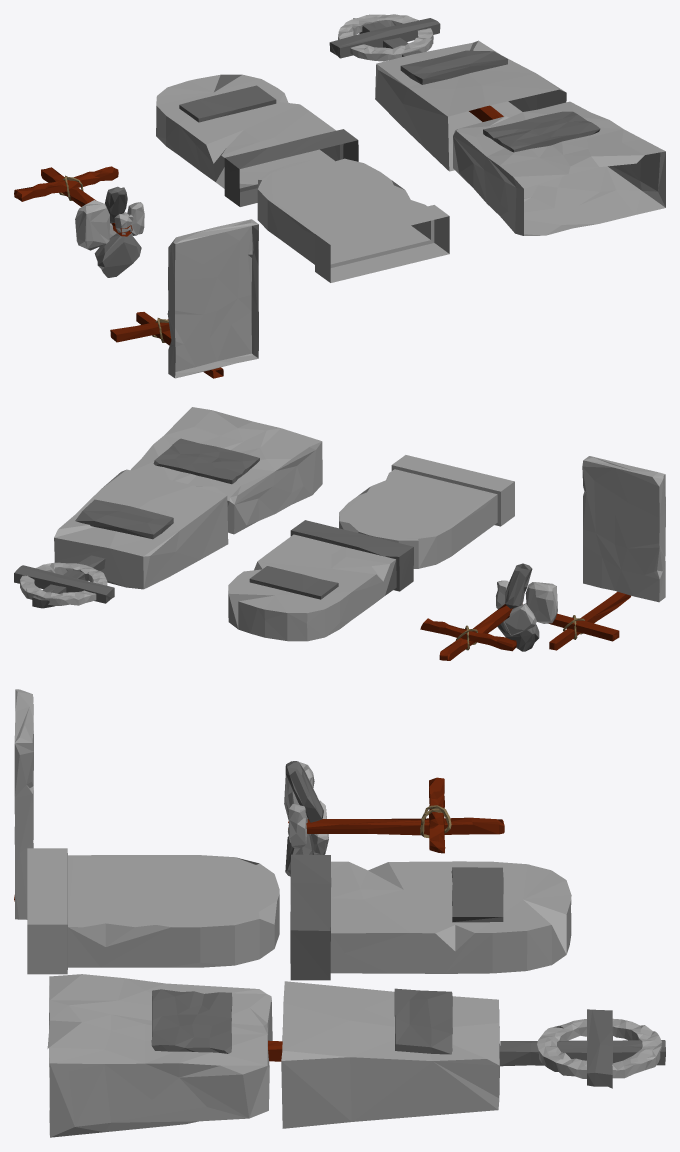
The model's file is grave.FBX.
3 renders of one model, top to bottom at view 1: azimuth 30°, elevation 25°; view 2: azimuth 150°, elevation 25°; view 3: azimuth 270°, elevation 25°, orthographic. The views are drawn at different scales.
Visible parts, largest first — view 1: tombstone_three, tombstone_two, tombstone_four, tombstone_one, tombstone_five, tombstone_six; view 2: tombstone_four, tombstone_one, tombstone_three, tombstone_five, tombstone_two, tombstone_six; view 3: tombstone_four, tombstone_three, tombstone_one, tombstone_two, tombstone_six, tombstone_five.
Part boxes in pixels (box(x1,y1,x2,y2)): tombstone_three: box(453, 101, 665, 235); tombstone_two: box(257, 158, 449, 282); tombstone_four: box(329, 14, 566, 171); tombstone_one: box(156, 74, 358, 206); tombstone_five: box(110, 219, 258, 378); tombstone_six: box(14, 166, 144, 277); tombstone_four: box(14, 469, 228, 608); tombstone_one: box(228, 520, 413, 641); tombstone_three: box(130, 407, 322, 534); tombstone_five: box(549, 456, 665, 650); tombstone_two: box(339, 455, 514, 568); tombstone_six: box(420, 563, 557, 660); tombstone_four: box(281, 981, 665, 1128); tombstone_three: box(47, 974, 282, 1137); tombstone_one: box(290, 854, 571, 980); tombstone_two: box(27, 848, 279, 974); tombstone_six: box(284, 761, 504, 876); tombstone_five: box(14, 689, 33, 919).
Size of the model in its own units: 231 by 64.22 by 195.
